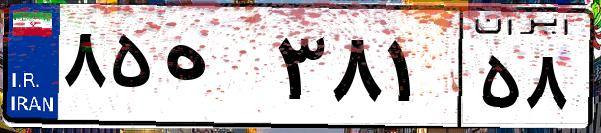1: (385, 28, 445, 110)
3: (270, 28, 330, 110)
5: (475, 38, 525, 113), (110, 28, 158, 98)
8: (330, 28, 385, 110), (57, 26, 110, 100), (525, 38, 570, 115)
ه: (158, 20, 270, 120)
